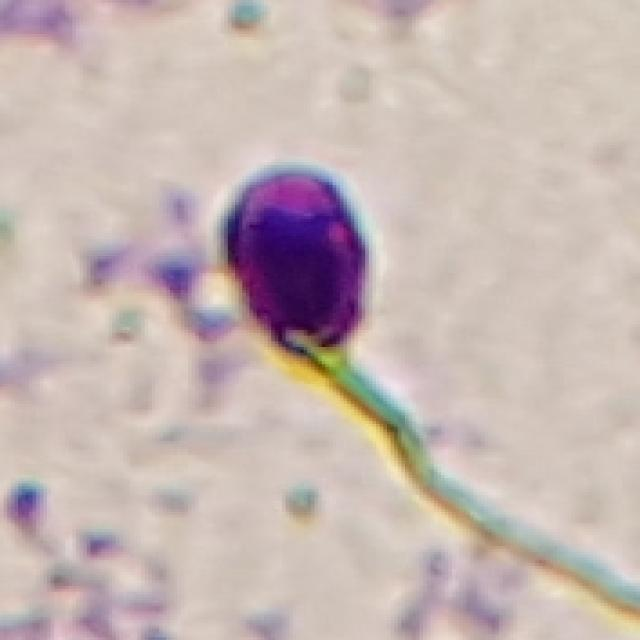normal sperm: (217, 164, 410, 437)
